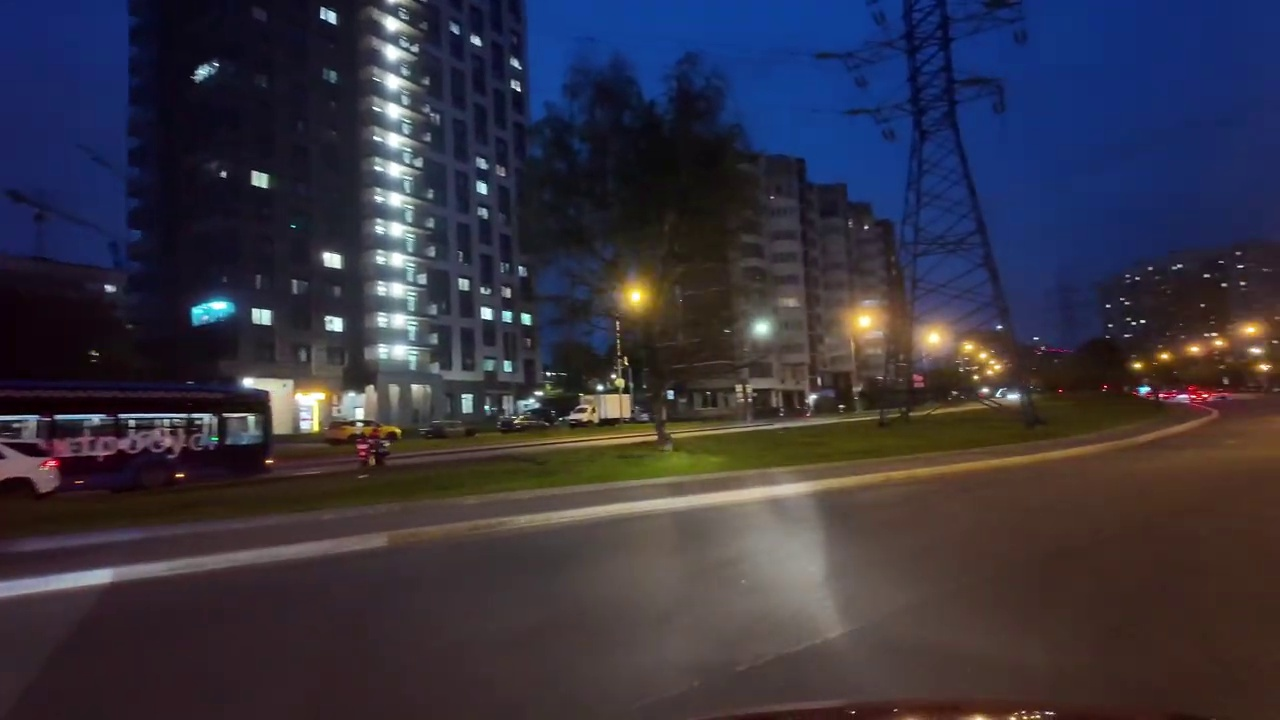acesa: (622, 280, 654, 312), (847, 307, 880, 337), (747, 315, 776, 343), (919, 325, 948, 350), (1237, 320, 1266, 342)
